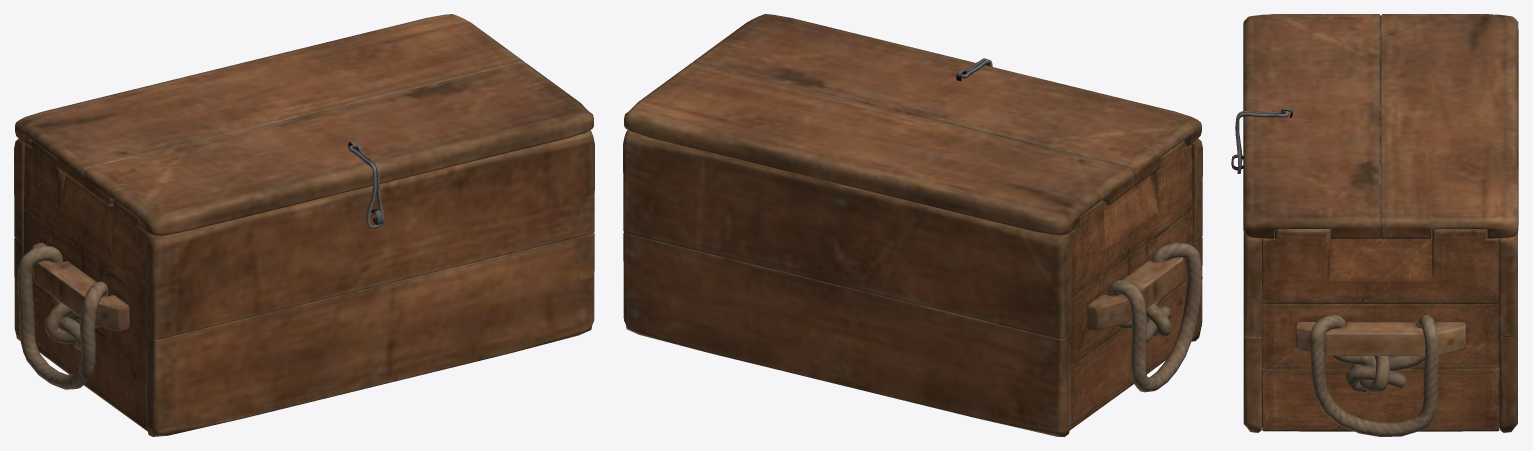
File: wooden_crate_01.glb
3 renders of one model, left to right at view 1: azimuth 30°, elevation 25°; view 2: azimuth 150°, elevation 25°; view 3: azimuth 270°, elevation 25°, orthographic. The views are drawn at different scales.
Visible parts, largest first — view 1: wooden_crate_01, wooden_crate_01_lid, wooden_crate_01_latch; view 2: wooden_crate_01, wooden_crate_01_lid; view 3: wooden_crate_01_lid, wooden_crate_01, wooden_crate_01_latch.
Part boxes in pixels (x1,y1,x2,y2): wooden_crate_01: [14, 130, 594, 436]; wooden_crate_01_lid: [15, 14, 593, 236]; wooden_crate_01_latch: [349, 145, 384, 228]; wooden_crate_01: [623, 130, 1202, 436]; wooden_crate_01_lid: [624, 14, 1201, 235]; wooden_crate_01_lid: [1243, 14, 1518, 238]; wooden_crate_01: [1231, 154, 1517, 436]; wooden_crate_01_latch: [1235, 110, 1288, 173].
Size of the model in its own units: 0.8253 by 0.3496 by 0.409.
1 material, 1 textured.
